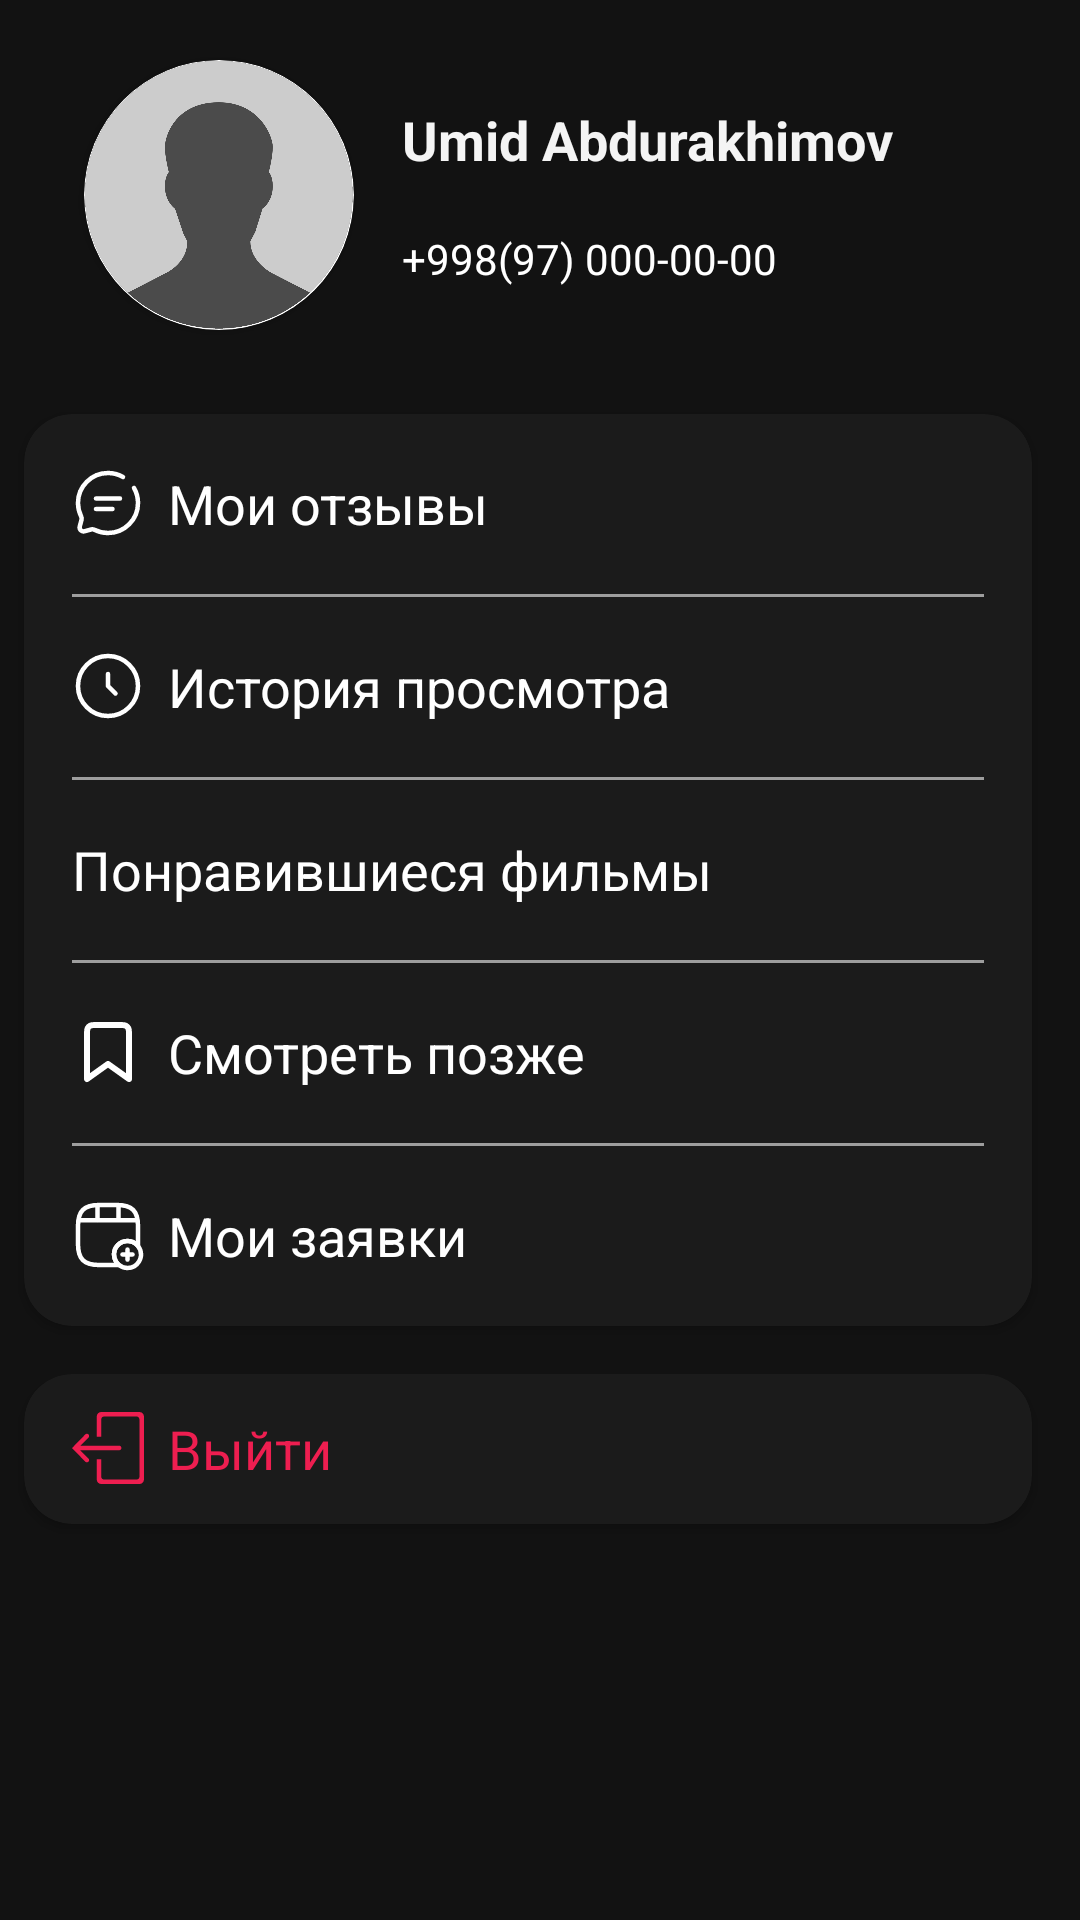

Named icons in this screenshot (1080w x 1920h) and their centers, (x,y):
unknown user: (219,195)
